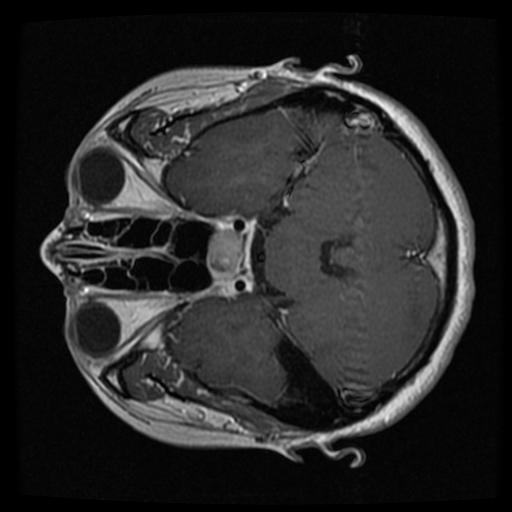pituitary tumour: (204, 228, 242, 278)
